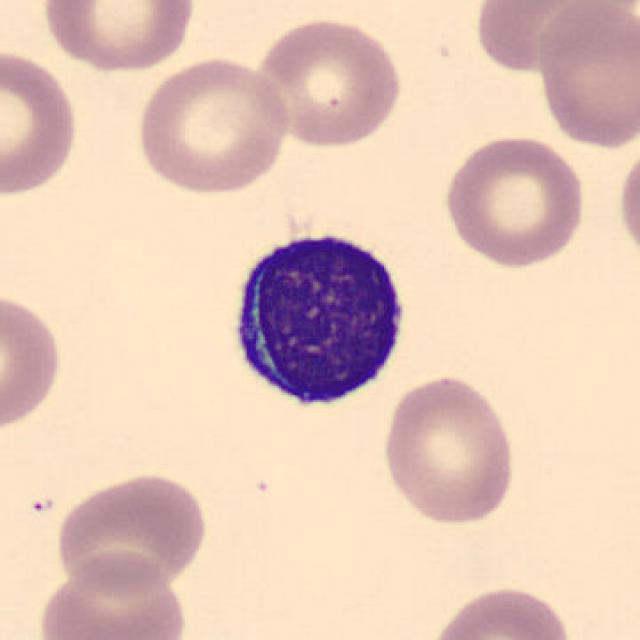Lymphocyte: (217, 218, 418, 418)
RBC: (134, 53, 292, 197), (379, 370, 521, 529), (252, 12, 406, 150), (439, 130, 590, 270), (52, 469, 210, 598), (532, 0, 638, 152), (36, 548, 192, 640), (0, 44, 82, 199), (37, 0, 199, 74), (471, 0, 604, 79), (0, 287, 66, 434), (425, 582, 576, 640), (615, 138, 640, 268)
